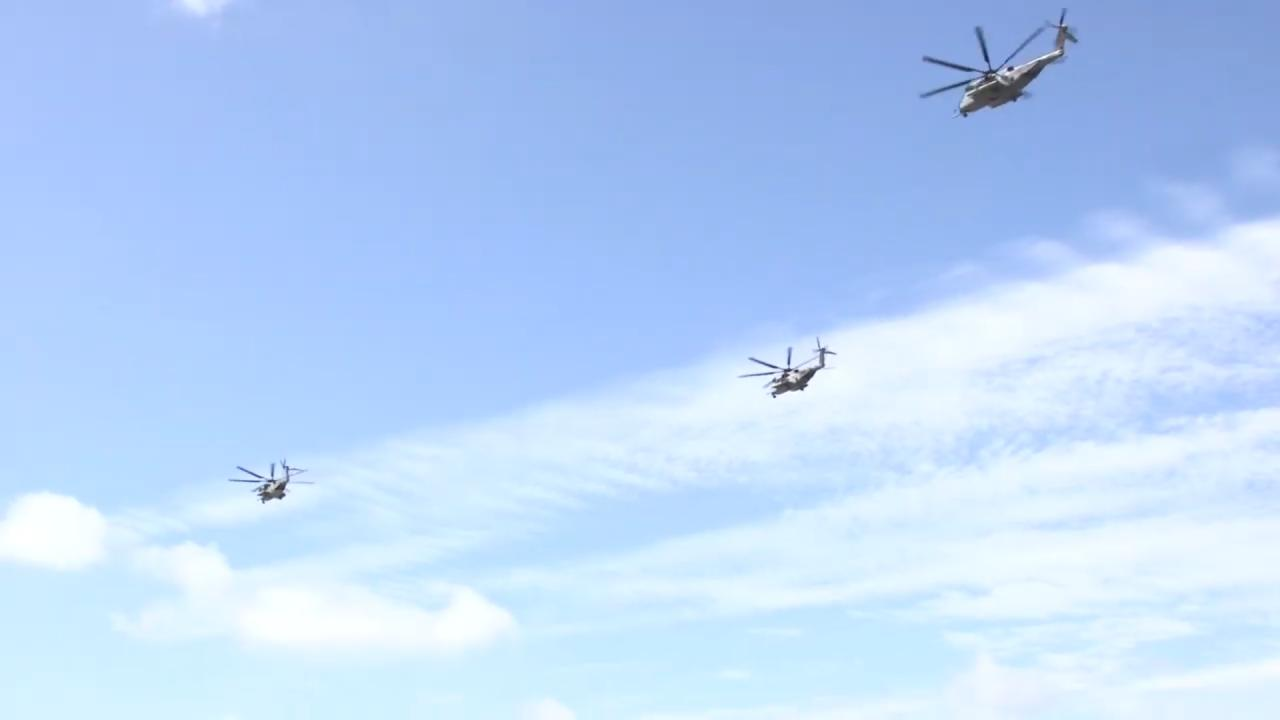Helicopter: (910, 4, 1109, 139), (723, 324, 853, 419), (210, 440, 334, 529)
